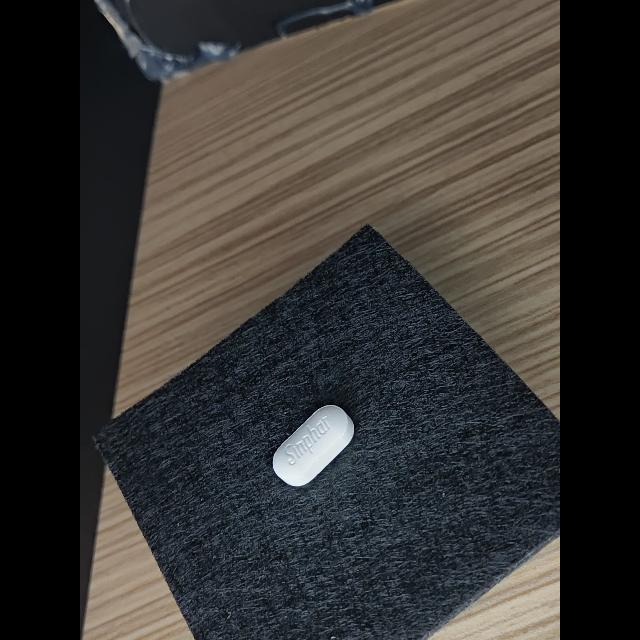Intact Pill: (273, 405, 354, 486)
